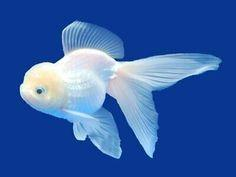goldfish: (17, 18, 199, 150)
